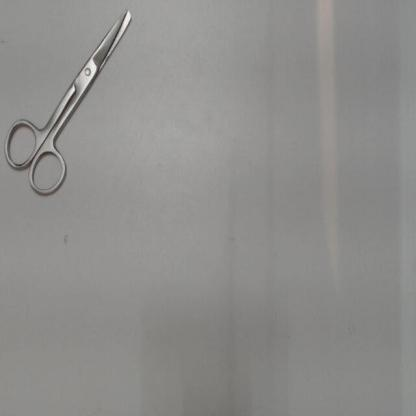Dressing Scissors: (0, 4, 144, 206)
